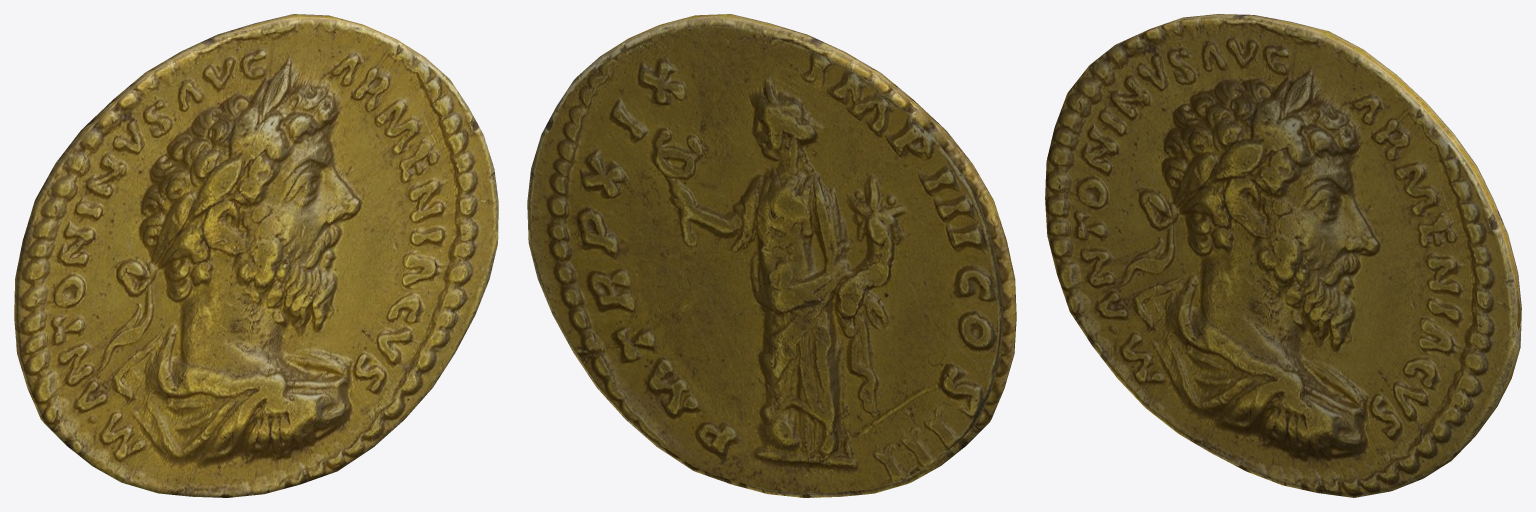
3 views of the same model, side by side, from view 1: azimuth 30°, elevation 25°; view 2: azimuth 150°, elevation 25°; view 3: azimuth 330°, elevation 25° (orthographic). The views are drawn at different scales.
Visible parts, largest first — view 1: Object_2; view 2: Object_2; view 3: Object_2.
Part boxes in pixels (left/top/right/bottom): Object_2: left=14, top=14, right=498, bottom=497; Object_2: left=527, top=14, right=1016, bottom=497; Object_2: left=1045, top=14, right=1521, bottom=497.
Bounding box in the file's own units: 7.39 × 6.85 × 0.3029.
Materials: 1 (1 with a texture image).
